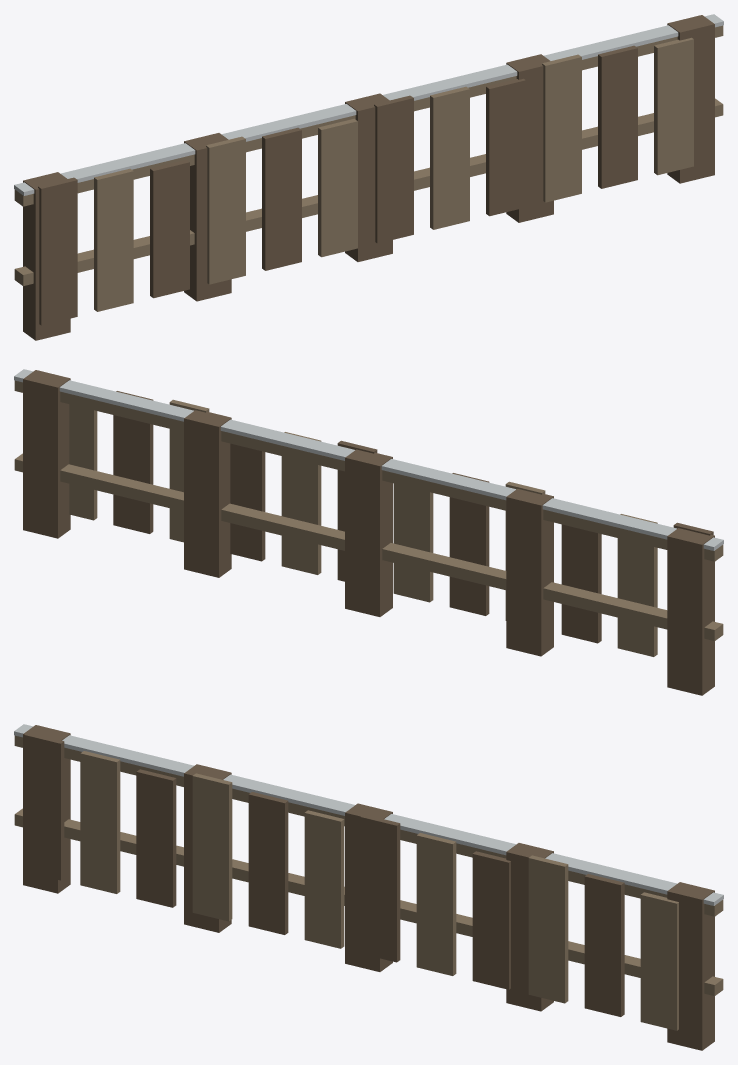
The model's file is plank_fence.glb.
The picture shows the model from 3 angles, top to bottom: view 1: azimuth 30°, elevation 25°; view 2: azimuth 150°, elevation 25°; view 3: azimuth 330°, elevation 25°; orthographic projection.
Parts seen in each view (by area): view 1: plank_fence; view 2: plank_fence; view 3: plank_fence.
Part boxes in pixels (x1,y1,x2,y2): plank_fence: (14,14,723,340); plank_fence: (14,369,723,695); plank_fence: (14,724,723,1050).
Bounding box in the file's own units: 5.76 × 1.2 × 0.2112.
